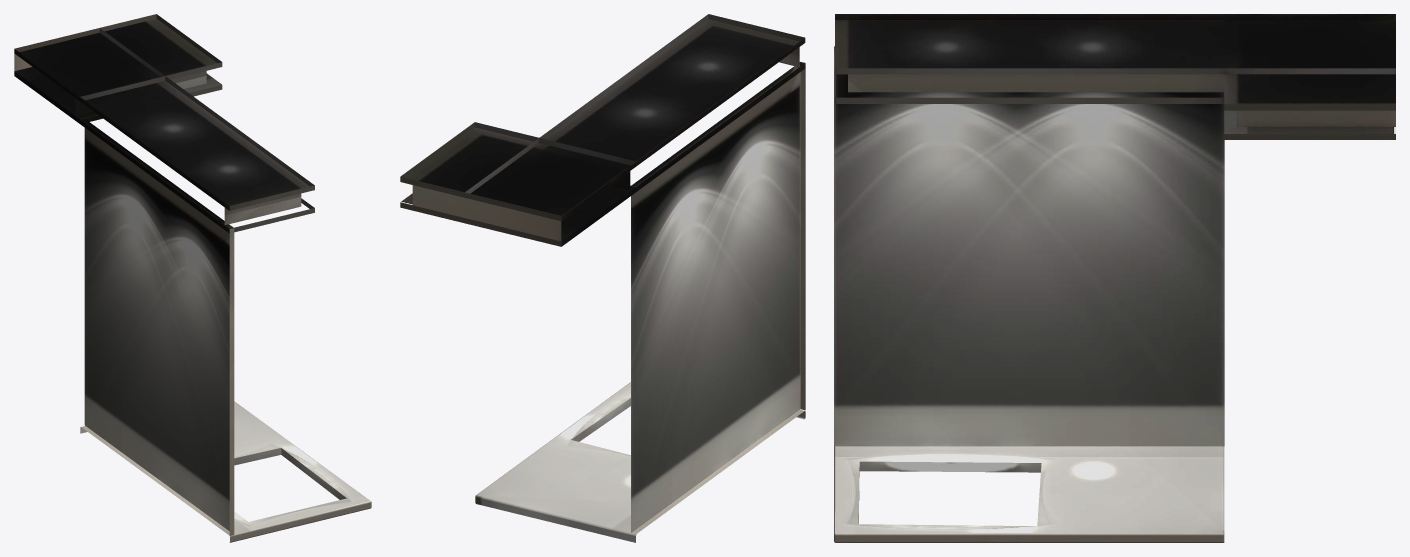
Rendered from 2014_WSJ_JJ_08.FBX.
The picture shows the model from 3 angles, left to right: view 1: azimuth 30°, elevation 25°; view 2: azimuth 150°, elevation 25°; view 3: azimuth 270°, elevation 25°; orthographic projection. The views are drawn at different scales.
Visible parts, largest first — view 1: 2014_WSJ_JJ_08; view 2: 2014_WSJ_JJ_08; view 3: 2014_WSJ_JJ_08.
Part boxes in pixels (bbox=[...]): 2014_WSJ_JJ_08: bbox=[14, 14, 371, 542]; 2014_WSJ_JJ_08: bbox=[400, 14, 805, 542]; 2014_WSJ_JJ_08: bbox=[834, 14, 1395, 542].
Bounding box in the file's own units: 0.5005 × 1.13 × 1.31.
